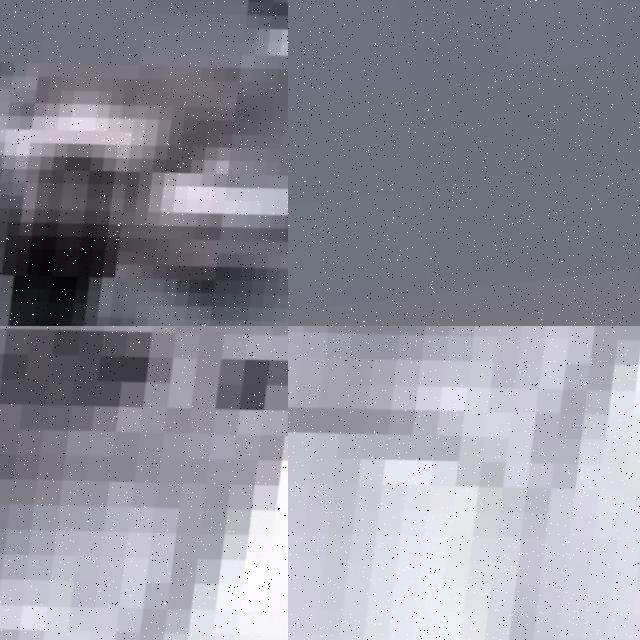drone: (288, 326, 640, 640), (0, 0, 288, 326), (0, 326, 288, 640)
